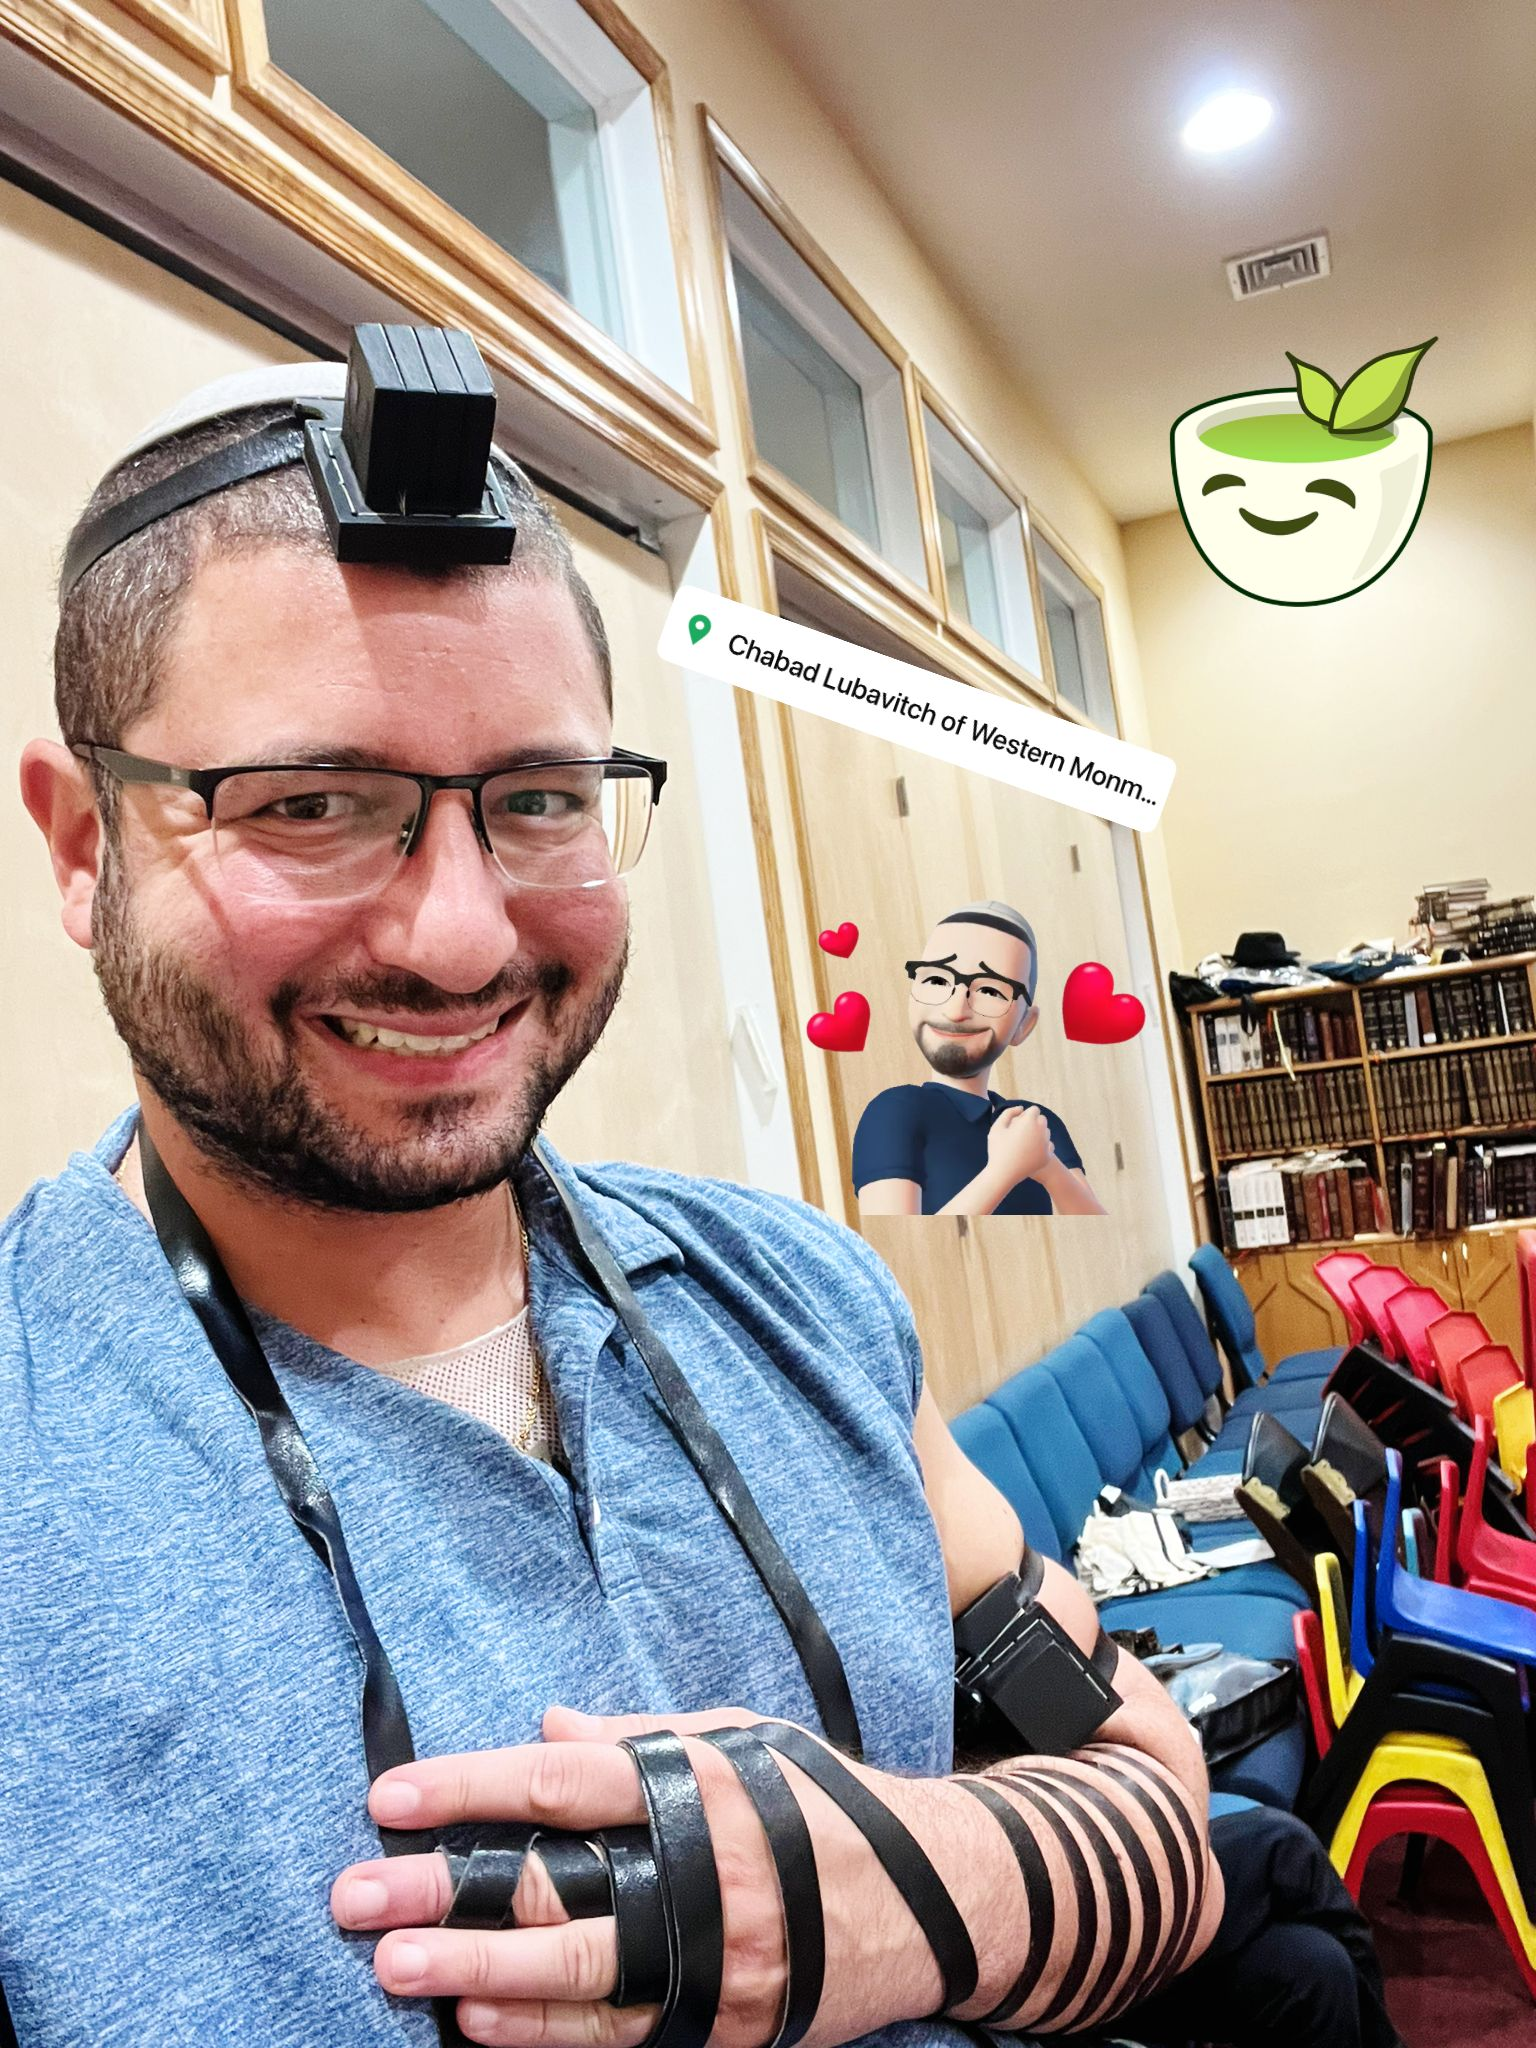tefillin: (307, 323, 518, 574), (949, 1571, 1120, 1753)
